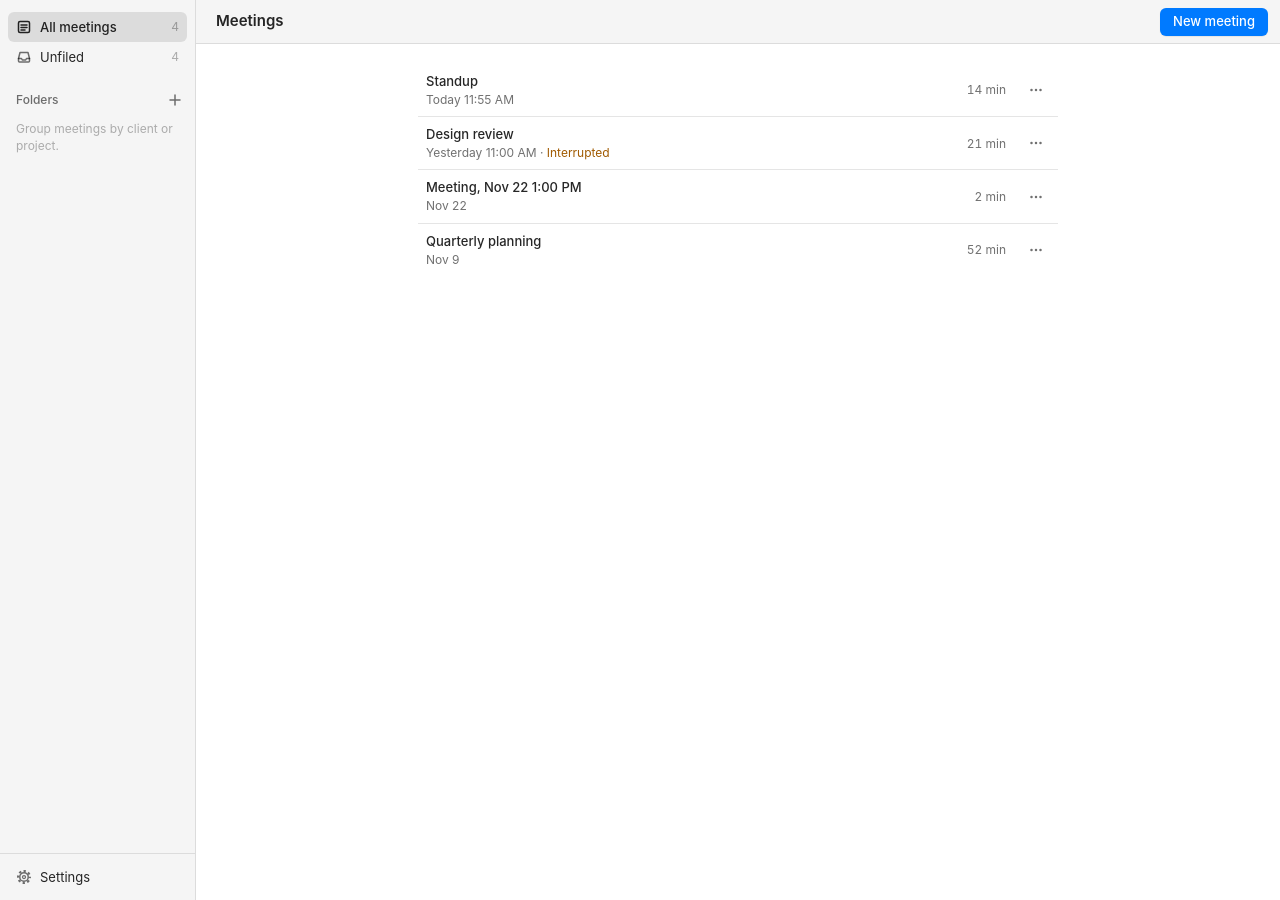
it: navigation › Back retraces the way: meeting, Settings, meeting, Home
The image size is (1280, 900).
Click the button "Design review Yesterday 11:00 AM · Interrupted 21 min": (470, 134) [418, 117, 1014, 169]
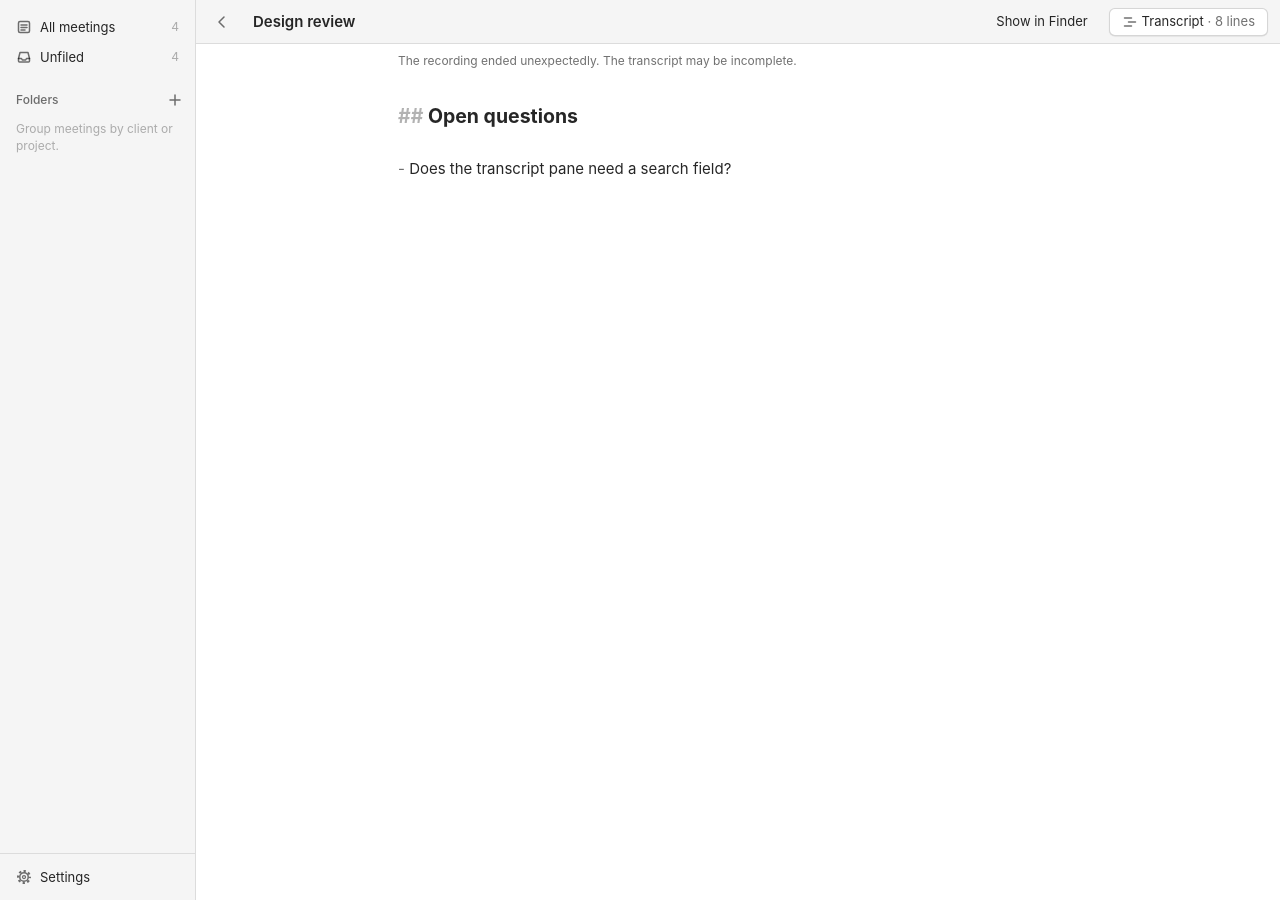
Click the button "Settings": (98, 877) [8, 862, 187, 892]
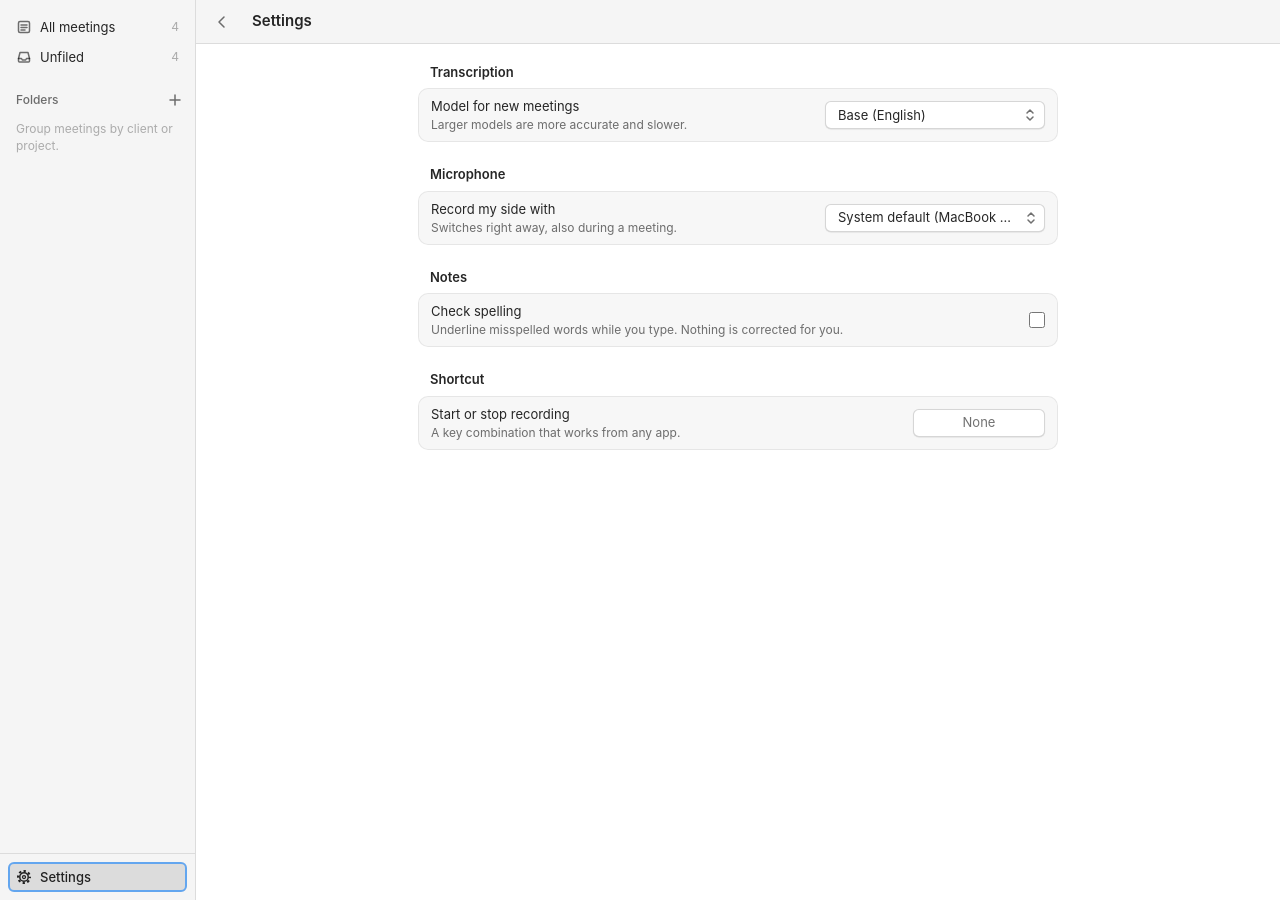
Click the button named "Back": (222, 22) [208, 8, 236, 36]
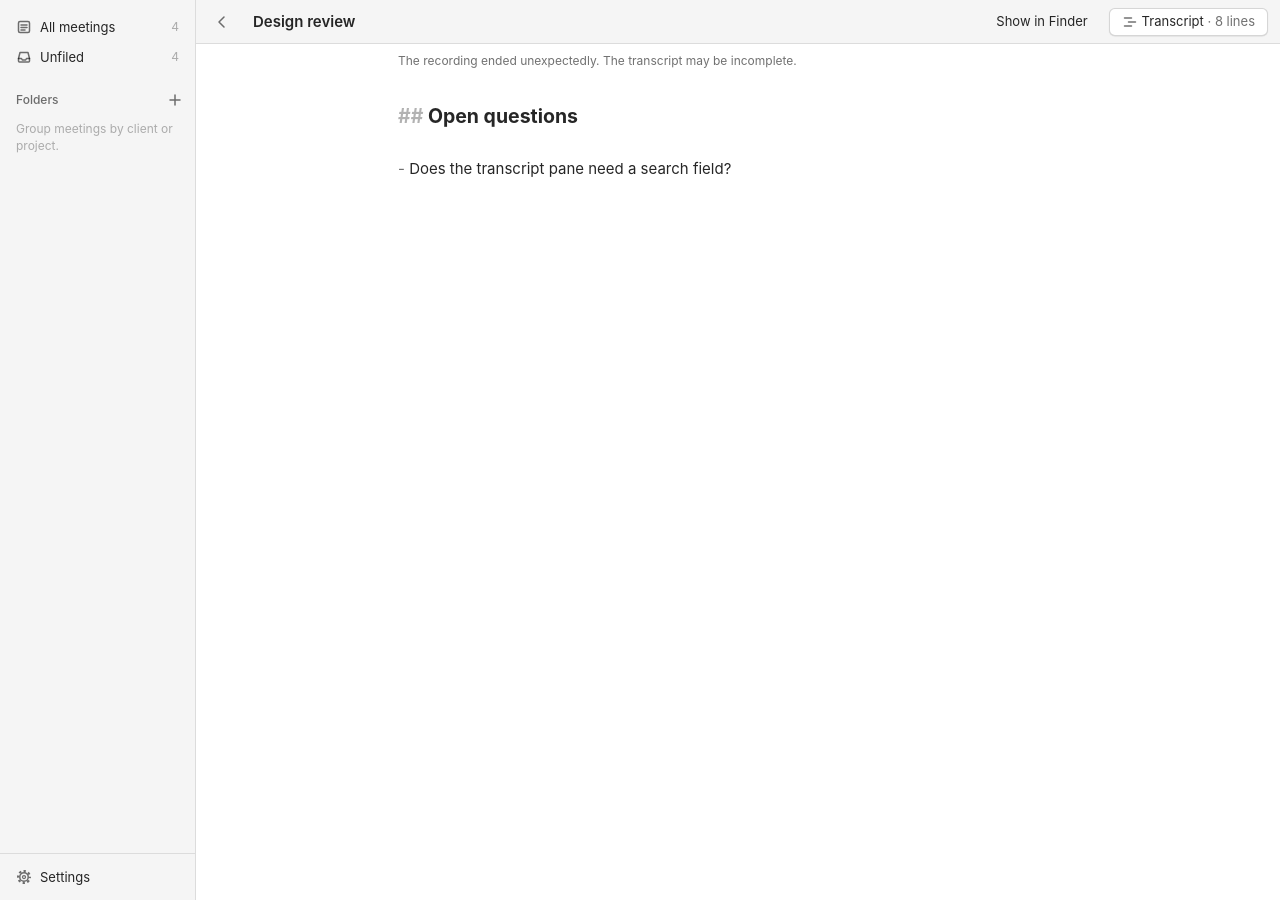
Check: the heading named "Design review" is shown, box [244, 8, 644, 36]
Click the button named "Back": (222, 22) [208, 8, 236, 36]
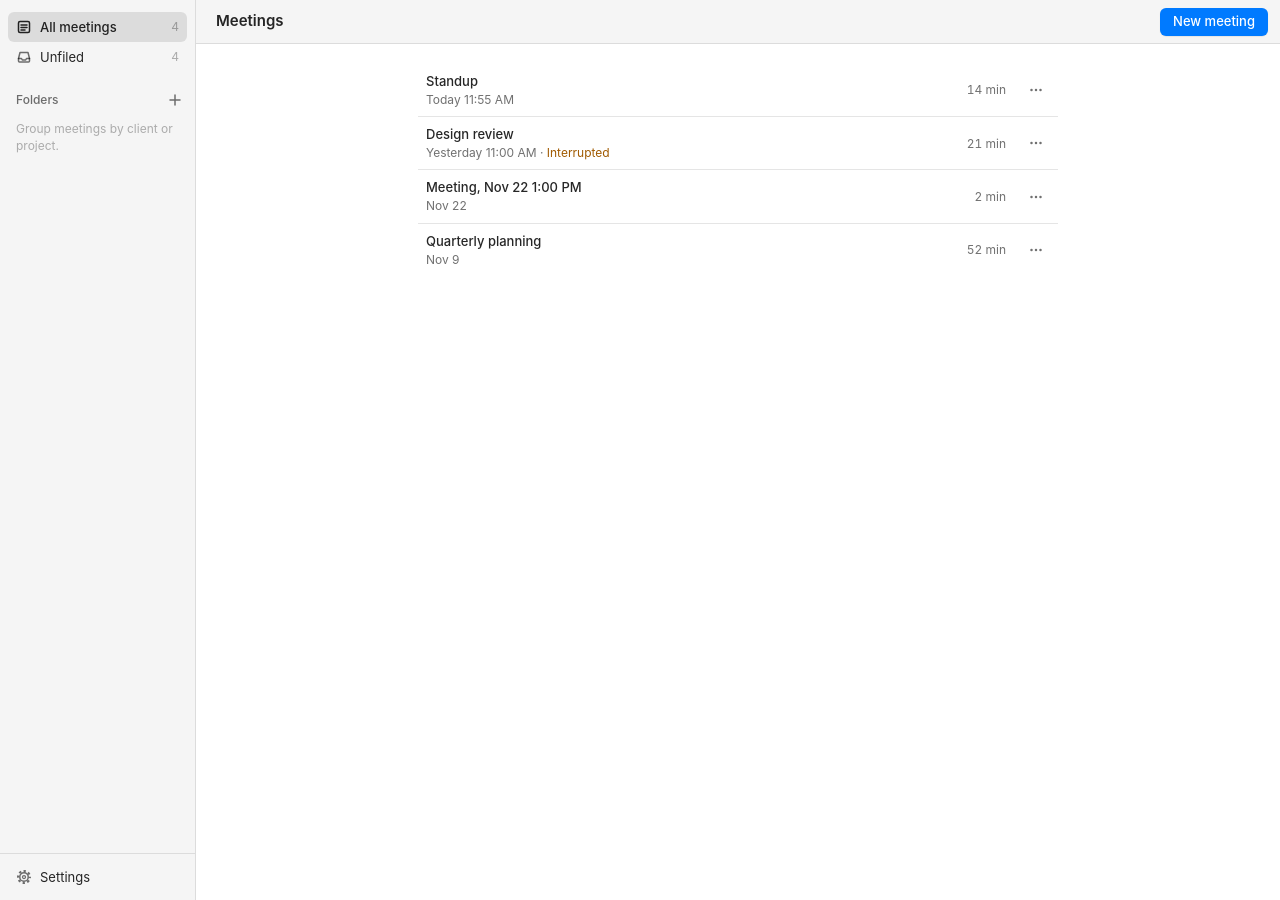
Check: the heading "Meetings" is shown, box [216, 12, 284, 31]
Check: the button "Back" is gone
